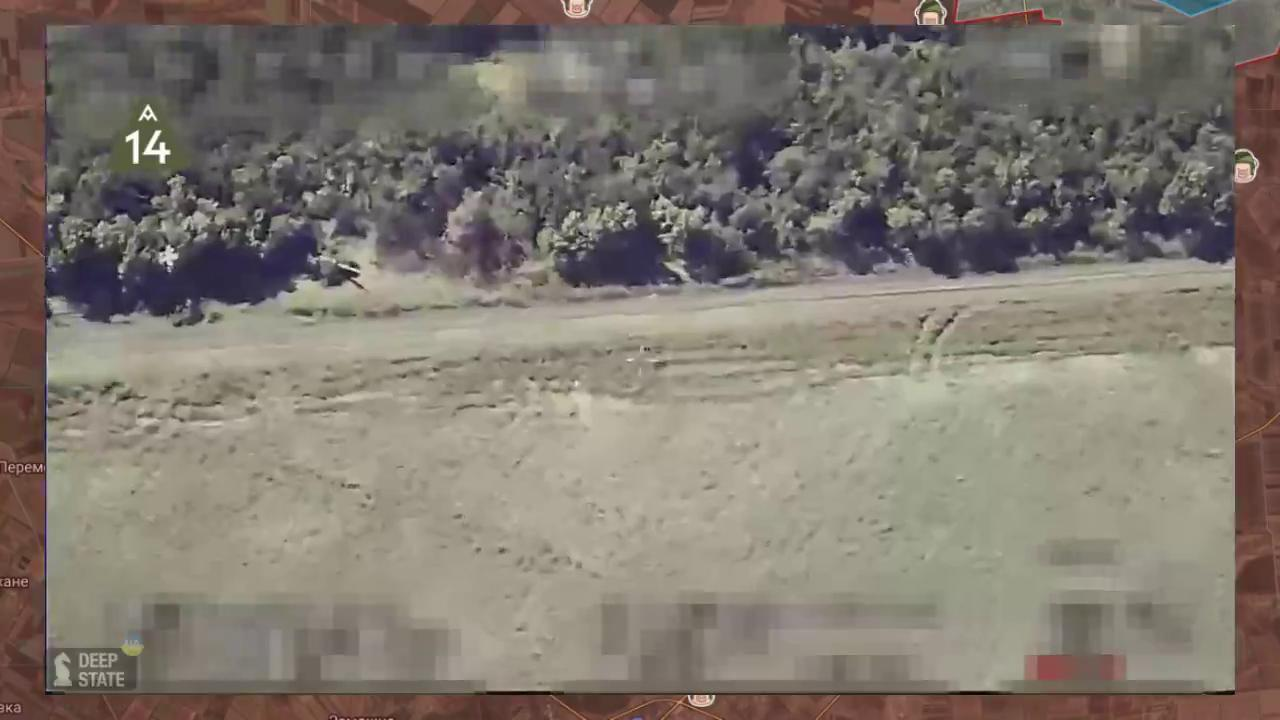tank: (302, 239, 367, 295)
